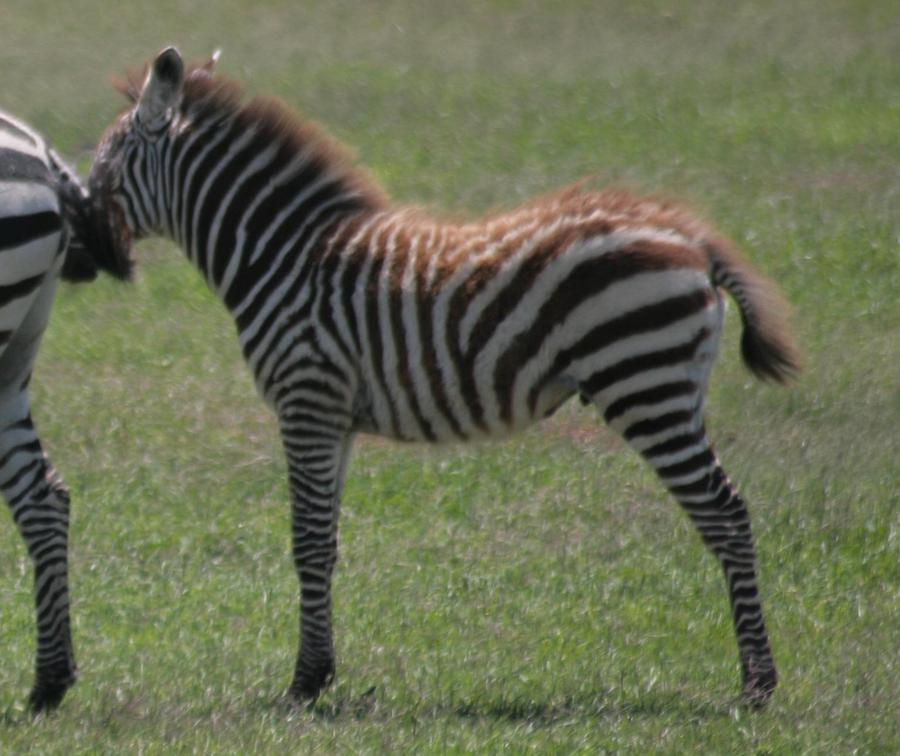zebra_plains: (216, 177, 756, 461)
